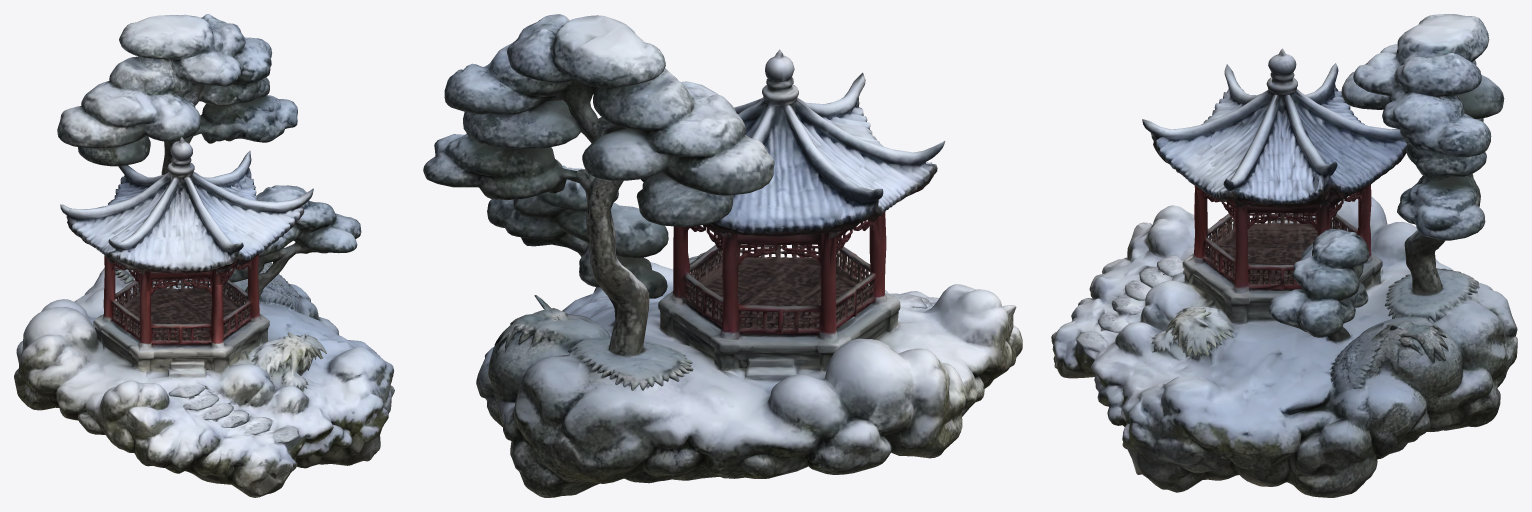
Rendered from arch_pavilion.glb.
The picture shows the model from 3 angles, left to right: view 1: azimuth 30°, elevation 25°; view 2: azimuth 150°, elevation 25°; view 3: azimuth 270°, elevation 25°; orthographic projection. The views are drawn at different scales.
Visible parts, largest first — view 1: tripo_node_6d6b0ef8-ac1e-477d-8e6b-3fa2d3068bfb; view 2: tripo_node_6d6b0ef8-ac1e-477d-8e6b-3fa2d3068bfb; view 3: tripo_node_6d6b0ef8-ac1e-477d-8e6b-3fa2d3068bfb.
Part boxes in pixels (x1,y1,x2,y2): tripo_node_6d6b0ef8-ac1e-477d-8e6b-3fa2d3068bfb: (14, 14, 394, 497); tripo_node_6d6b0ef8-ac1e-477d-8e6b-3fa2d3068bfb: (423, 14, 1022, 497); tripo_node_6d6b0ef8-ac1e-477d-8e6b-3fa2d3068bfb: (1051, 14, 1517, 497).
Size of the model in its own units: 0.942 by 0.9788 by 0.9764.
Materials: 1 (1 with a texture image).
